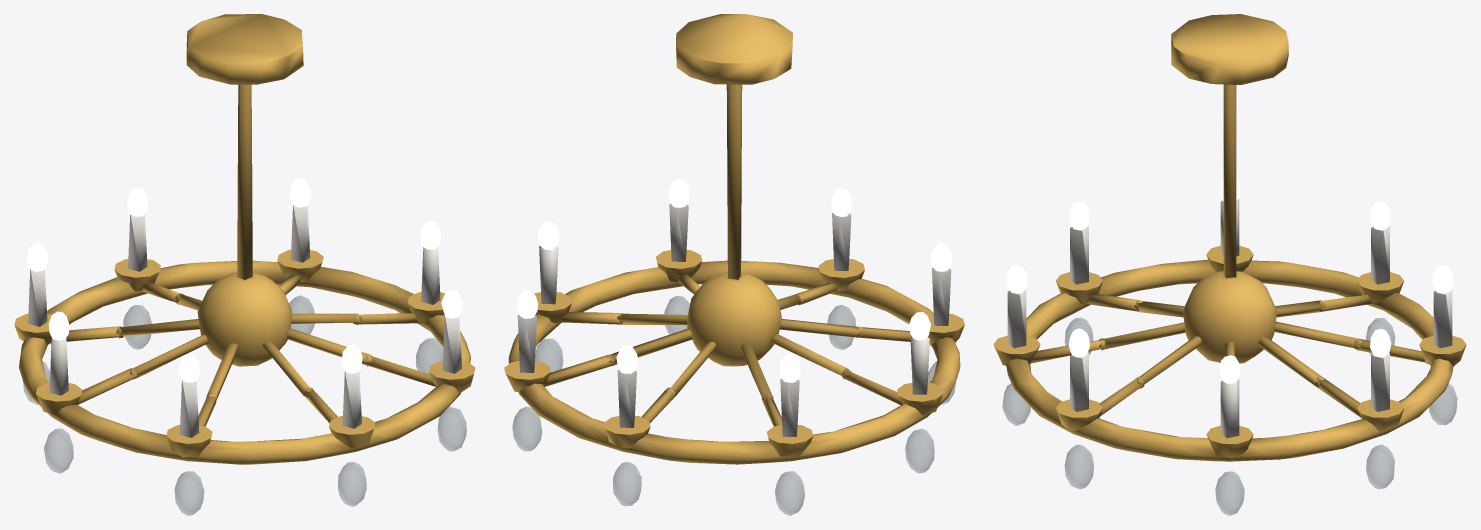
Rendered from luxe-gold--chandelier.glb.
3 views of the same model, side by side, from view 1: azimuth 30°, elevation 25°; view 2: azimuth 150°, elevation 25°; view 3: azimuth 270°, elevation 25° (orthographic).
Visible parts, largest first — view 1: luxe-gold--chandelier; view 2: luxe-gold--chandelier; view 3: luxe-gold--chandelier.
Part boxes in pixels (x1,y1,x2,y2): luxe-gold--chandelier: (14, 14, 475, 515); luxe-gold--chandelier: (504, 14, 964, 515); luxe-gold--chandelier: (993, 14, 1466, 515).
Bounding box in the file's own units: 0.7961 × 0.7201 × 0.8.
